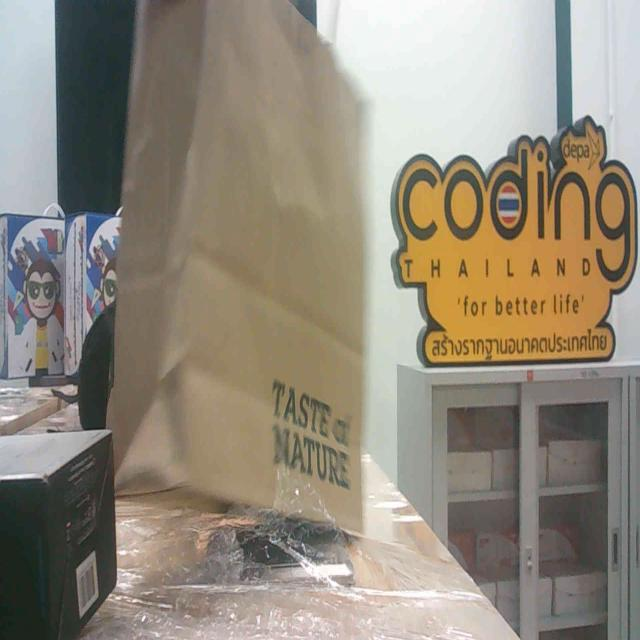bag: (125, 14, 361, 546)
